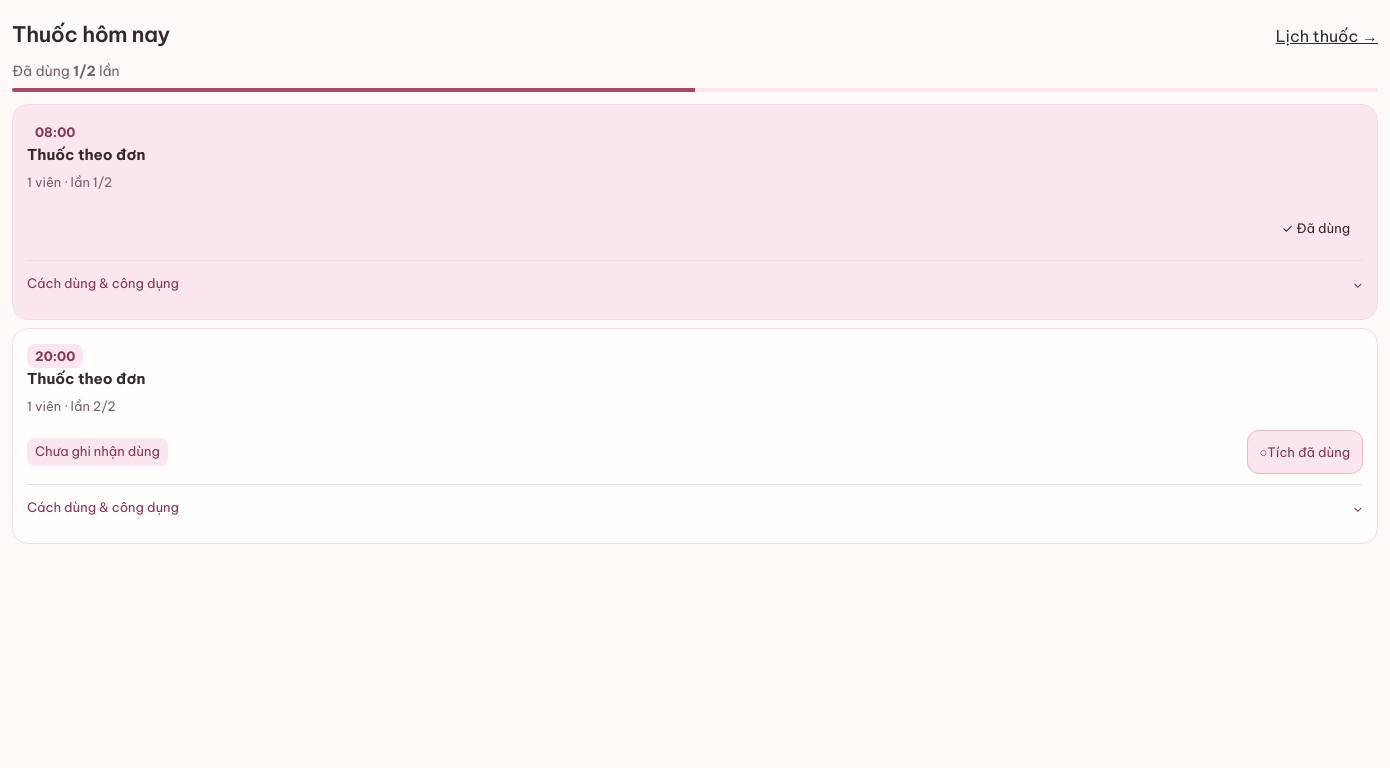
Test: keeps the slot unconfirmed when saving fails
The width and height of the screenshot is (1390, 768).
Click the button with aria-label "Đánh dấu đã dùng Thuốc theo đơn lần 2" at (1305, 452), box [1246,430,1363,474]
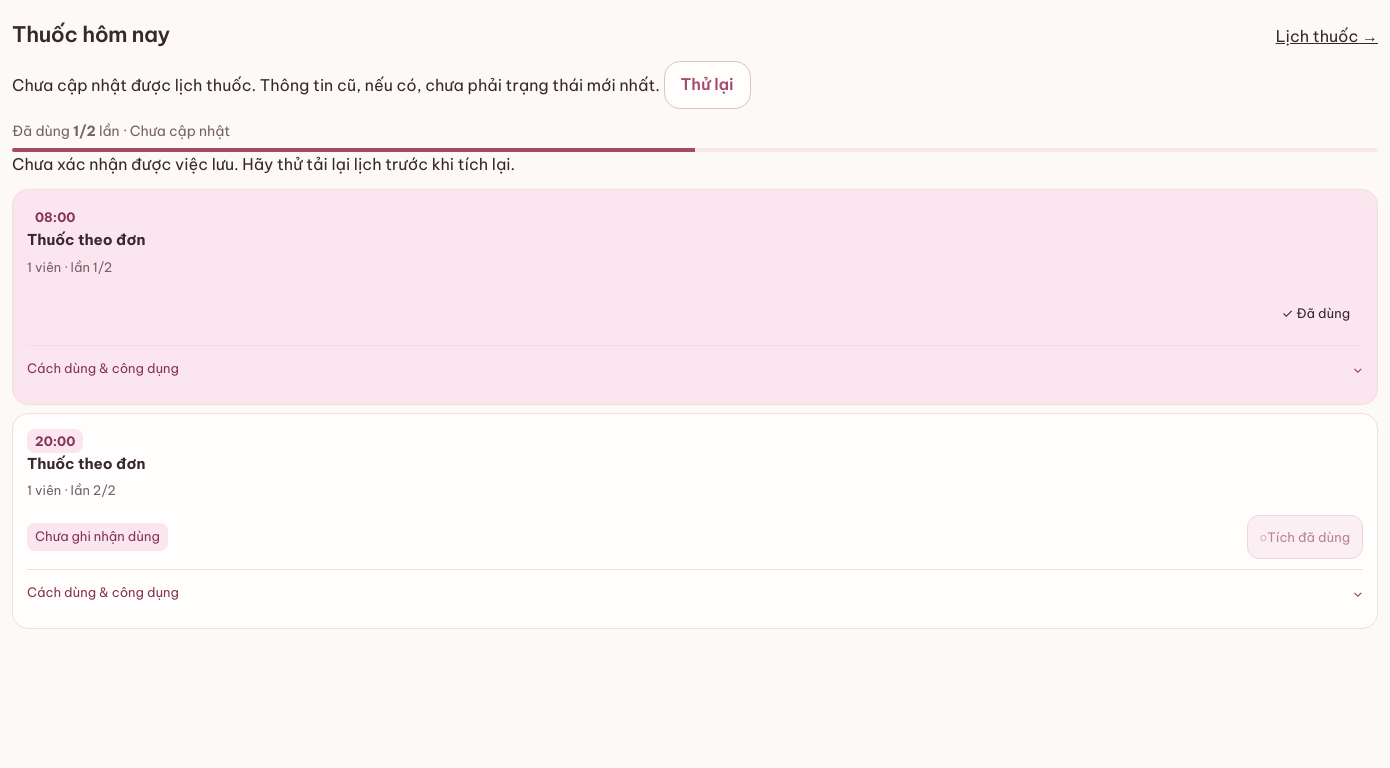
expect the text "Chưa ghi nhận dùng" is shown: met, box [27,523,168,551]
expect the text "Chưa xác nhận được việc lưu. Hãy thử tải lại lịch trước khi tích lại." is shown: met, box [12,154,515,174]
